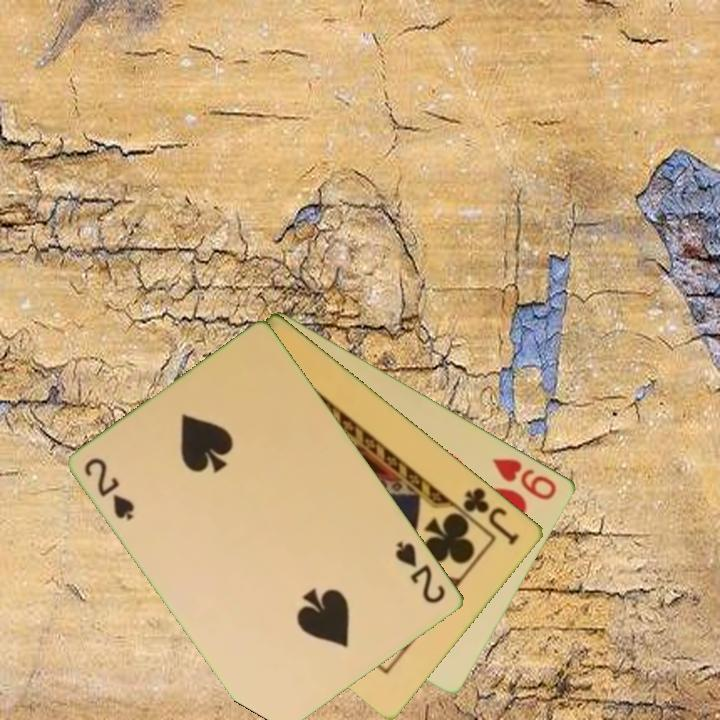2s: (81, 454, 139, 524), (392, 537, 449, 607)
9h: (490, 454, 561, 503)
Jc: (459, 483, 523, 548)
